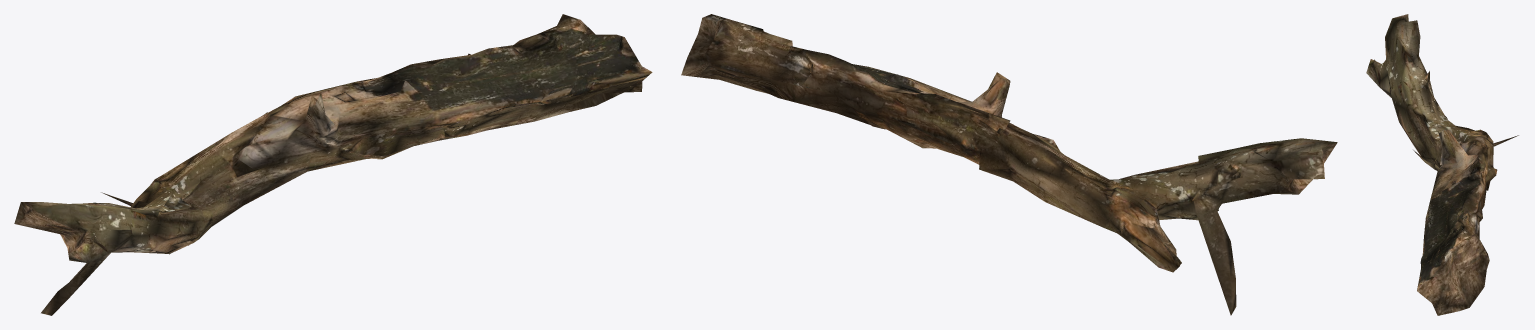
Rendered from dead_trunk.glb.
3 renders of one model, left to right at view 1: azimuth 30°, elevation 25°; view 2: azimuth 150°, elevation 25°; view 3: azimuth 270°, elevation 25°, orthographic. The views are drawn at different scales.
Visible parts, largest first — view 1: dead_tree_trunk_02; view 2: dead_tree_trunk_02; view 3: dead_tree_trunk_02.
Part boxes in pixels (x1,y1,x2,y2): dead_tree_trunk_02: (14, 14, 652, 315); dead_tree_trunk_02: (681, 14, 1337, 315); dead_tree_trunk_02: (1366, 14, 1518, 315).
Bounding box in the file's own units: 4.03 × 1.04 × 1.04.
Materials: 1 (1 with a texture image).
